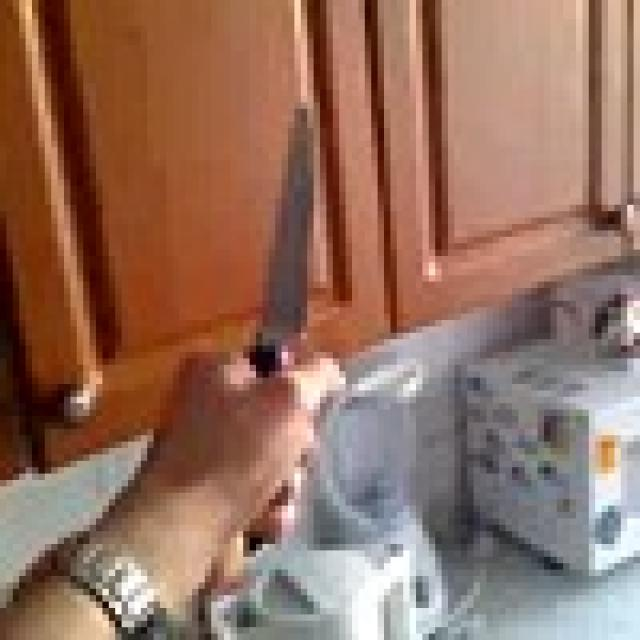Knife: (242, 101, 338, 389)
